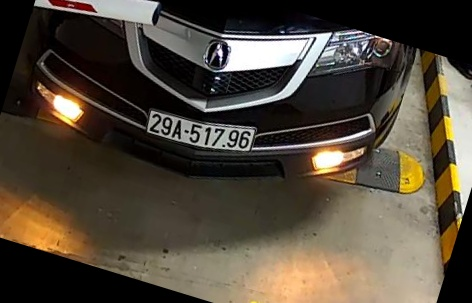plate: (146, 104, 263, 161)
